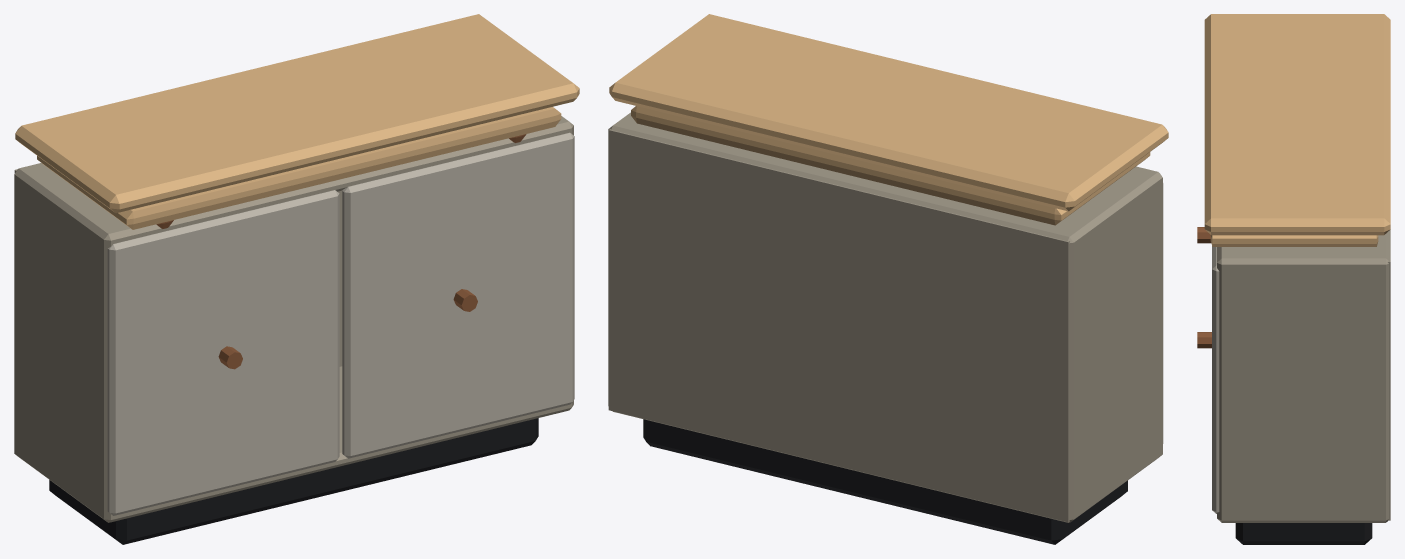
File: extending_bar_table.glb
The picture shows the model from 3 angles, left to right: view 1: azimuth 30°, elevation 25°; view 2: azimuth 150°, elevation 25°; view 3: azimuth 270°, elevation 25°; orthographic projection. The views are drawn at different scales.
Visible parts, largest first — view 1: extending_bar_table_Body, extending_bar_table_Bar; view 2: extending_bar_table_Body, extending_bar_table_Bar; view 3: extending_bar_table_Body, extending_bar_table_Bar.
Part boxes in pixels (x1=…): extending_bar_table_Body: x1=14, y1=14, x2=579, y2=544; extending_bar_table_Bar: x1=37, y1=107, x2=561, y2=229; extending_bar_table_Body: x1=608, y1=14, x2=1168, y2=544; extending_bar_table_Bar: x1=631, y1=106, x2=1150, y2=225; extending_bar_table_Body: x1=1197, y1=14, x2=1390, y2=544; extending_bar_table_Bar: x1=1210, y1=235, x2=1378, y2=246.
Bounding box in the file's own units: 0.8 × 0.6 × 0.312.
